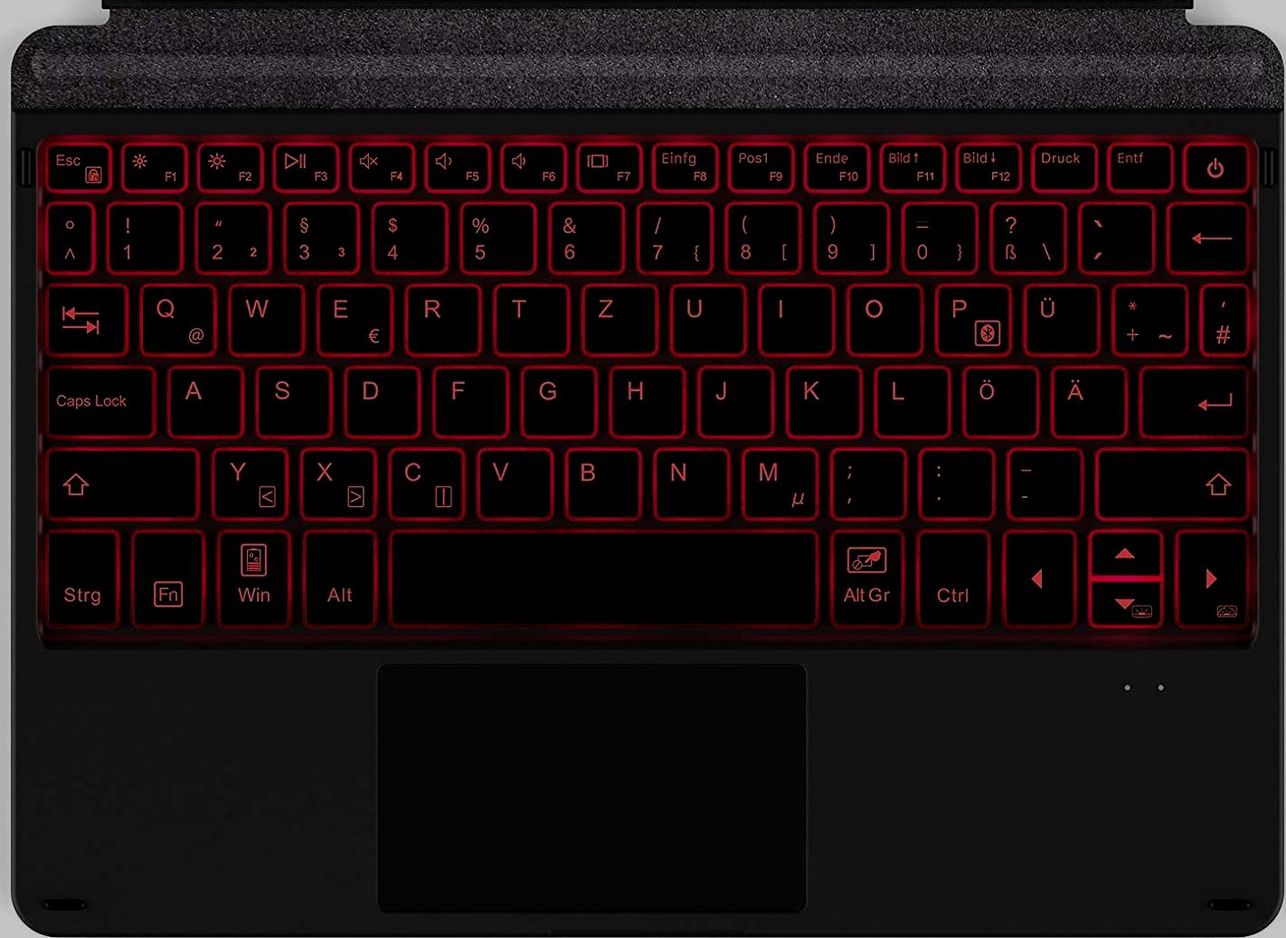0: (897, 197, 975, 272)
1: (102, 197, 178, 270)
2: (190, 198, 268, 271)
3: (278, 198, 357, 271)
4: (369, 197, 444, 270)
5: (454, 197, 532, 271)
6: (543, 198, 621, 271)
7: (633, 198, 710, 272)
8: (720, 197, 798, 272)
9: (808, 198, 887, 272)
a: (163, 361, 240, 434)
accent: (1075, 197, 1151, 270)
ae: (1046, 361, 1125, 435)
alt-left: (299, 524, 376, 627)
altgr-right: (826, 522, 903, 627)
b: (559, 444, 639, 516)
c: (384, 444, 464, 518)
caret: (43, 198, 92, 271)
comma: (825, 443, 902, 516)
d: (340, 361, 417, 434)
del: (1166, 197, 1248, 270)
e: (311, 280, 390, 353)
enter: (1139, 361, 1248, 434)
f: (428, 361, 505, 433)
g: (516, 361, 592, 434)
h: (604, 361, 682, 434)
hash: (1198, 279, 1249, 355)
i: (754, 279, 831, 352)
j: (694, 361, 770, 434)
k: (782, 361, 858, 434)
keyboard: (16, 102, 1277, 650)
l: (871, 361, 946, 434)
m: (736, 443, 816, 517)
minus: (1001, 444, 1080, 516)
n: (649, 443, 726, 516)
o: (841, 279, 918, 352)
oe: (958, 361, 1035, 434)
p: (931, 279, 1009, 353)
plus: (1109, 279, 1186, 352)
point: (914, 443, 991, 515)
q: (134, 280, 214, 353)
r: (402, 280, 478, 352)
s: (251, 361, 329, 434)
shift-left: (42, 442, 195, 517)
shift-lock: (42, 361, 152, 435)
shift-right: (1095, 443, 1248, 517)
space: (386, 525, 820, 627)
ss: (984, 197, 1063, 272)
strg-left: (40, 523, 118, 629)
strg-right: (913, 524, 991, 627)
t: (490, 279, 565, 352)
tab: (43, 278, 124, 353)
u: (665, 279, 742, 353)
ue: (1018, 279, 1096, 353)
v: (473, 444, 551, 516)
w: (223, 278, 299, 352)
x: (296, 444, 374, 517)
y: (208, 444, 286, 516)
z: (577, 279, 654, 352)
